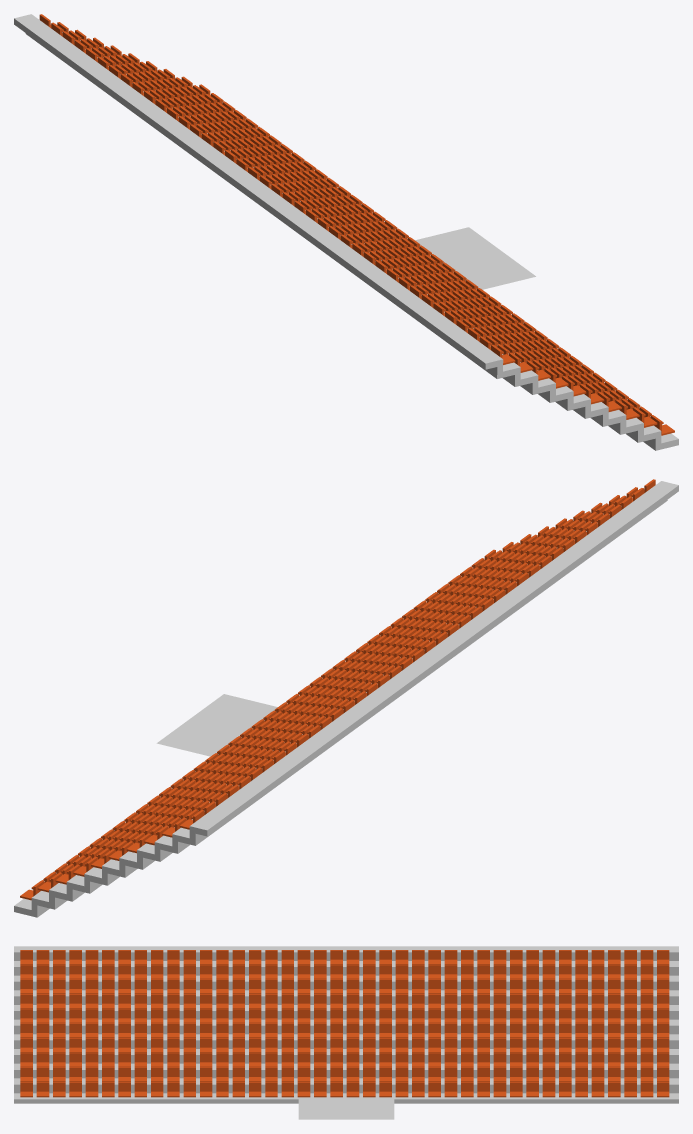
The model's file is Staduim.fbx.
3 views of the same model, one above another, from view 1: azimuth 30°, elevation 25°; view 2: azimuth 150°, elevation 25°; view 3: azimuth 270°, elevation 25° (orthographic). The views are drawn at different scales.
Visible parts, largest first — view 1: Chairs.002, Cube, Plane; view 2: Chairs.002, Cube, Plane; view 3: Chairs.002, Cube, Plane.
Part boxes in pixels (box(x1,y1,x2,y2)): Chairs.002: box(39, 14, 674, 435); Cube: box(14, 14, 678, 450); Plane: box(415, 227, 535, 289); Chairs.002: box(20, 479, 655, 900); Cube: box(14, 481, 678, 917); Plane: box(156, 694, 277, 756); Chairs.002: box(20, 950, 669, 1097); Cube: box(14, 946, 678, 1103); Plane: box(298, 1099, 394, 1119).
Size of the model in its own units: 432 by 217 by 1394.
